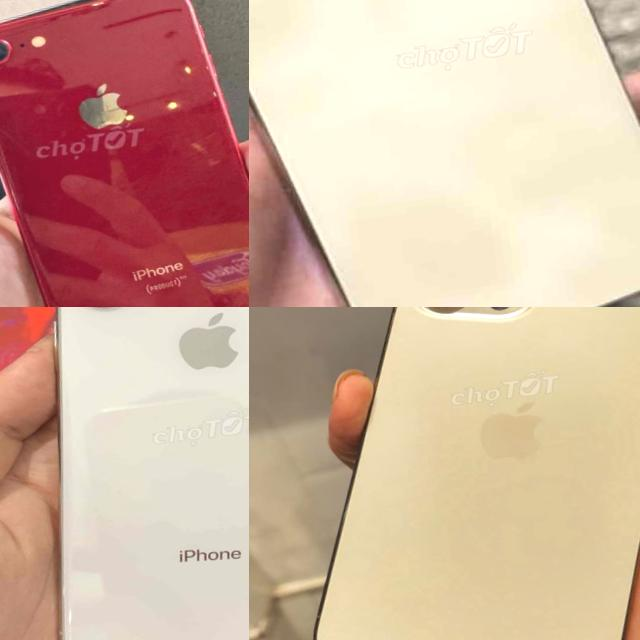gen_12_13: (259, 307, 640, 640)
gen_16: (249, 0, 640, 307)
gen_7_8: (0, 0, 249, 307)
gen_x_xs: (0, 307, 249, 640)
